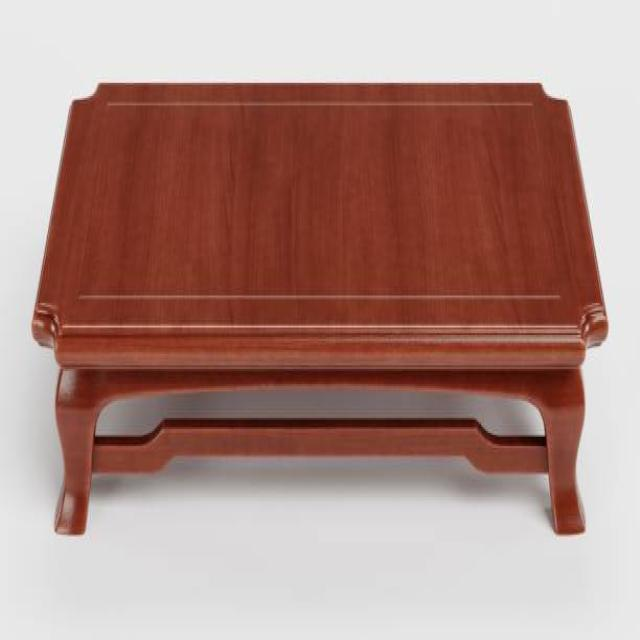table: (30, 79, 609, 538)
